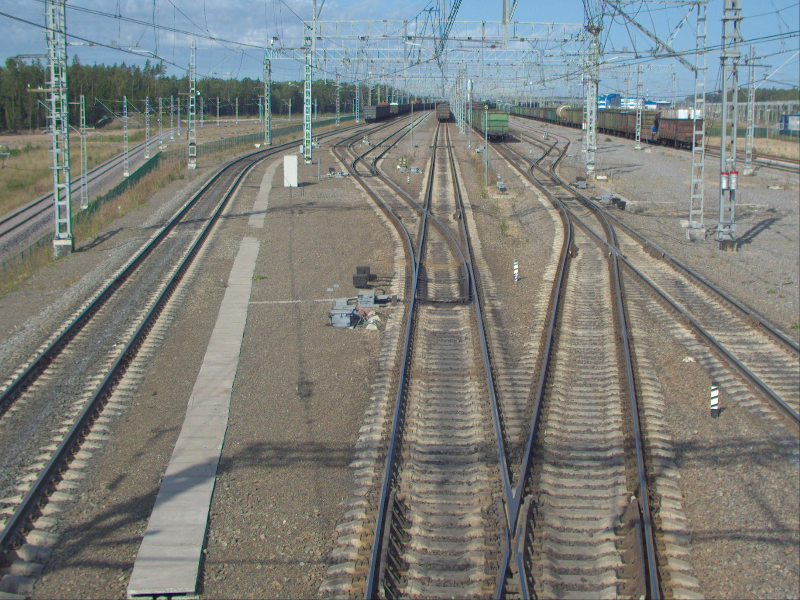right: (415, 204, 480, 301), (347, 156, 380, 175)
